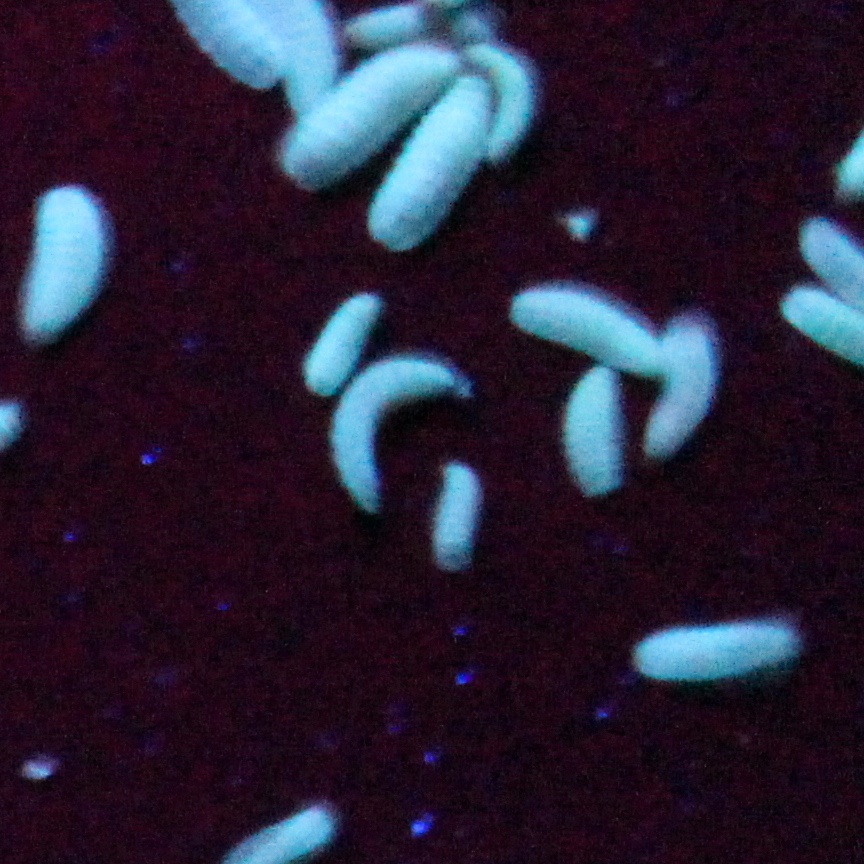larve: (286, 41, 457, 180), (369, 75, 494, 249), (335, 360, 453, 501), (511, 288, 664, 377), (24, 188, 102, 333), (636, 623, 792, 681), (648, 327, 715, 446), (306, 293, 377, 395), (465, 42, 526, 153), (567, 366, 616, 492), (434, 465, 477, 561)
